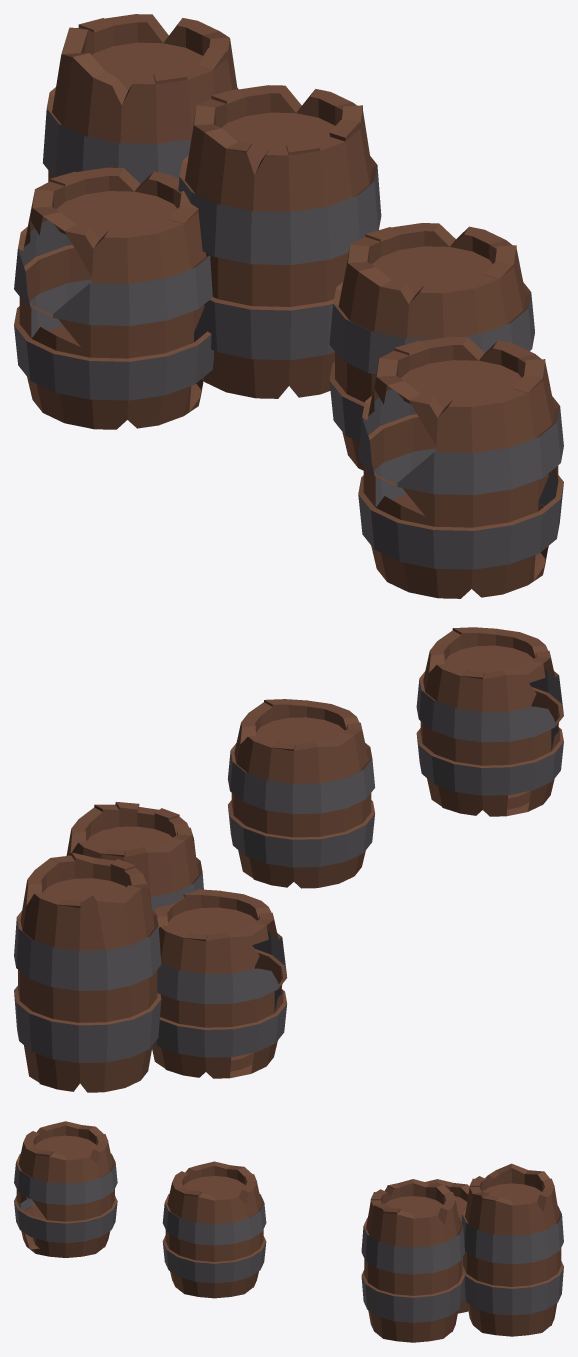
Rendered from Barrel.fbx.
The picture shows the model from 3 angles, top to bottom: view 1: azimuth 30°, elevation 25°; view 2: azimuth 150°, elevation 25°; view 3: azimuth 270°, elevation 25°; orthographic projection. The views are drawn at different scales.
Parts seen in each view (by area): view 1: Cylinder.003, Cylinder.001, Cylinder.009, Cylinder.008, Cylinder.006, Cylinder.002, Cylinder.010, Cylinder.004, Cylinder.005, Cylinder.007; view 2: Cylinder.006, Cylinder.008, Cylinder.001, Cylinder.009, Cylinder.007, Cylinder.002, Cylinder.005, Cylinder.003, Cylinder.010, Cylinder.004; view 3: Cylinder.006, Cylinder.003, Cylinder.008, Cylinder.001, Cylinder.007, Cylinder.004, Cylinder.002, Cylinder.005, Cylinder.009.
Boxes of the visible parts, x1,y1,x2,y2 form: Cylinder.003: (179, 85, 377, 398); Cylinder.001: (358, 336, 563, 598); Cylinder.009: (14, 167, 210, 429); Cylinder.008: (329, 223, 531, 470); Cylinder.006: (46, 14, 238, 181); Cylinder.002: (358, 389, 563, 569); Cylinder.010: (14, 220, 213, 400); Cylinder.004: (178, 165, 381, 360); Cylinder.005: (329, 293, 534, 442); Cylinder.007: (43, 109, 191, 183); Cylinder.006: (14, 852, 161, 1092); Cylinder.008: (228, 699, 374, 888); Cylinder.001: (416, 627, 563, 816); Cylinder.009: (152, 889, 286, 1078); Cylinder.007: (14, 917, 161, 1062); Cylinder.002: (416, 668, 563, 795); Cylinder.005: (228, 751, 375, 867); Cylinder.003: (66, 802, 202, 896); Cylinder.010: (154, 930, 286, 1057); Cylinder.004: (150, 873, 203, 911); Cylinder.006: (462, 1163, 563, 1336); Cylinder.003: (361, 1179, 464, 1342); Cylinder.008: (162, 1161, 266, 1298); Cylinder.001: (14, 1121, 117, 1257); Cylinder.007: (461, 1215, 563, 1315); Cylinder.004: (361, 1226, 464, 1322); Cylinder.002: (14, 1163, 117, 1243); Cylinder.005: (162, 1203, 266, 1283); Cylinder.009: (425, 1179, 469, 1313).
Size of the model in its own units: 205 by 177 by 566.
